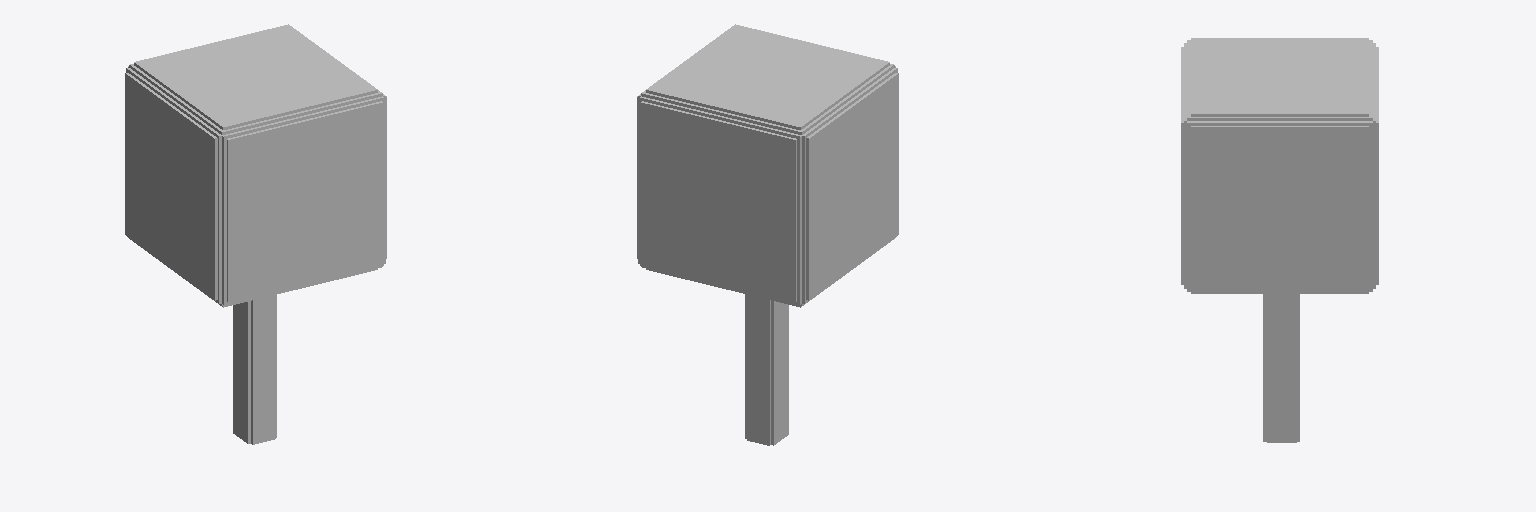
Rendered from tree2.obj.
3 renders of one model, left to right at view 1: azimuth 30°, elevation 25°; view 2: azimuth 150°, elevation 25°; view 3: azimuth 270°, elevation 25°, orthographic.
Visible parts, largest first — view 1: object 1; view 2: object 1; view 3: object 1.
Part boxes in pixels (bbox=[...]): object 1: bbox=[125, 24, 386, 444]; object 1: bbox=[637, 24, 898, 445]; object 1: bbox=[1181, 38, 1378, 442].
Bounding box in the file's own units: 6 × 12 × 6.